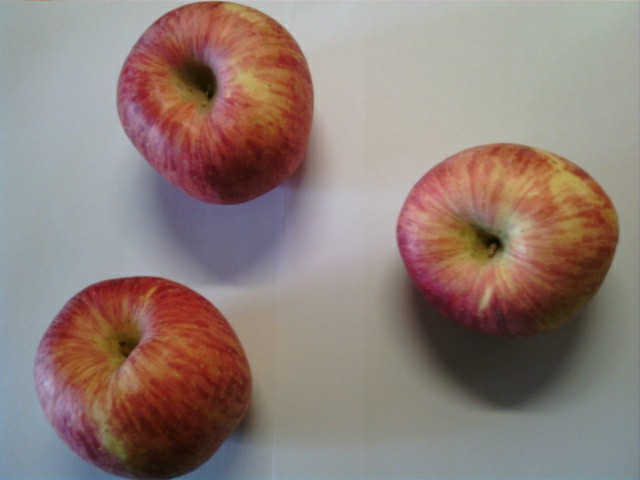normal_apple: (33, 276, 254, 480), (394, 143, 623, 338), (115, 2, 315, 205)
